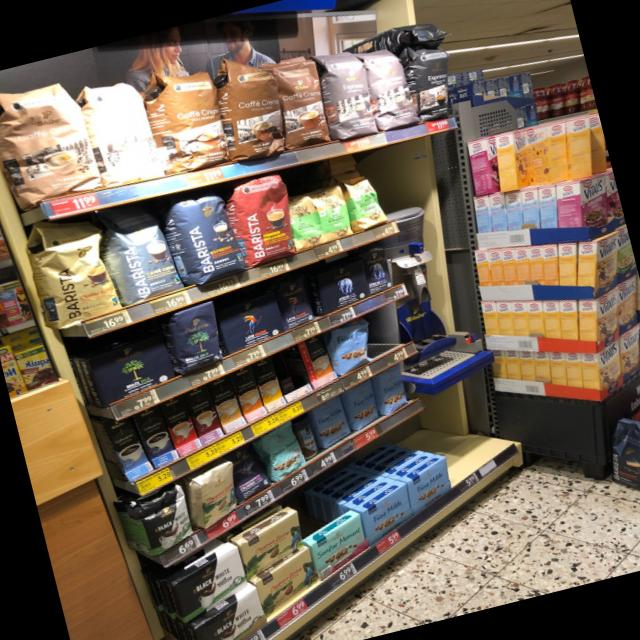AB Bohne: (359, 244, 395, 296)
AB Gemahlen: (316, 253, 373, 314)
Athiopien Bohne: (339, 170, 391, 233)
Athiopien Gemahlen: (284, 188, 330, 250), (316, 182, 356, 242)
BM Bohne: (163, 298, 227, 378)
BM Gemahlen: (88, 330, 177, 408)
BW Bohne: (125, 476, 200, 561)
BW Gemahlen: (166, 545, 250, 626), (191, 586, 267, 640)
Barista CB: (18, 209, 126, 330)
Barista CC: (91, 198, 186, 306)
Barista Espresso: (161, 189, 251, 292)
Barista Kolumbien: (221, 172, 303, 272)
CC Mild: (0, 69, 106, 215)
CC Vollmundig 36 Pads: (138, 59, 234, 180), (210, 46, 294, 166), (270, 48, 334, 153)
Colombia BB Bohne: (191, 459, 240, 532)
Colombia BB Gemahlen: (253, 546, 319, 617), (239, 509, 304, 580)
Empty Shelf: (429, 429, 508, 467), (364, 305, 403, 359)
Espresso Aromatisch: (312, 42, 381, 145), (358, 42, 422, 136)
Espresso S Art: (402, 36, 460, 124)
FM 36 Pads: (328, 316, 377, 378)
FM Bohne: (311, 394, 353, 450), (374, 362, 413, 418), (344, 378, 383, 432)
FM Gemahlen: (359, 481, 411, 548), (404, 454, 451, 516)
FM Instant: (291, 413, 323, 461)
LG Bohne: (269, 275, 317, 332)
LG Gemahlen: (216, 292, 287, 356)
SM Bohne: (250, 418, 312, 486)
SM Gemahlen: (307, 512, 369, 580)
Simo CCMild bigpack: (248, 354, 287, 413)
Simo CCVollmundig: (296, 332, 341, 390)
Simo CCVollmundig bigpack: (229, 364, 268, 424)
Simo Es Elegant: (158, 393, 205, 459)
Simo Es Kraft: (183, 383, 225, 445)
Simo Kaffee Kraft: (131, 403, 181, 470)
Simo Kaffee Mild: (103, 419, 154, 483)
